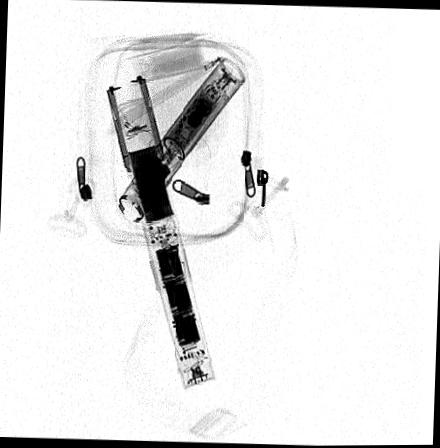Baton: (103, 73, 216, 390), (117, 55, 247, 223)
